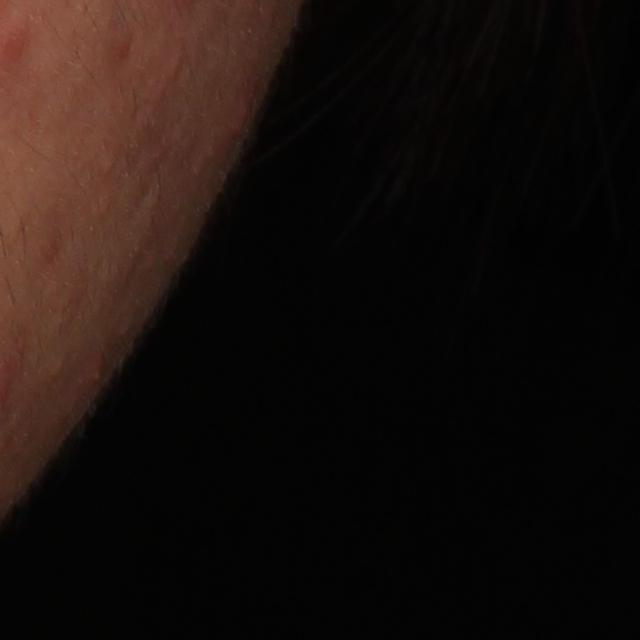papule: (232, 88, 256, 141), (83, 359, 108, 389)
